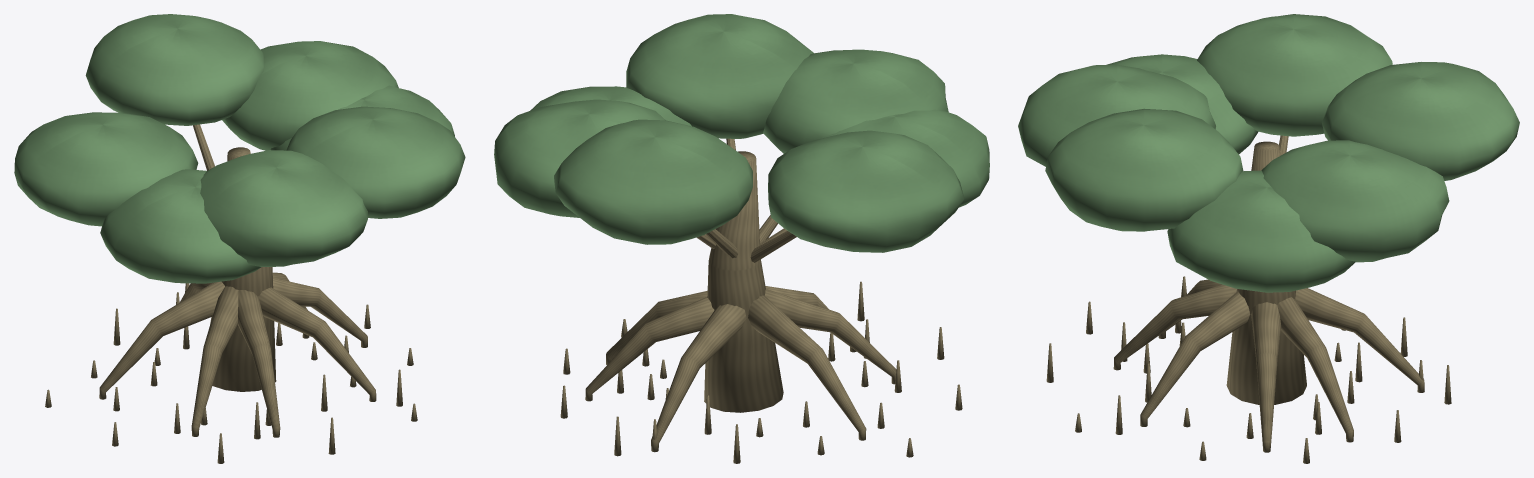
File: black_mangrove_with_breathing_roots_swamp_and_mangrove_22604.glb
3 renders of one model, left to right at view 1: azimuth 30°, elevation 25°; view 2: azimuth 150°, elevation 25°; view 3: azimuth 270°, elevation 25°, orthographic. The views are drawn at different scales.
Parts seen in each view (by area): view 1: black-mangrove; view 2: black-mangrove; view 3: black-mangrove.
Part boxes in pixels (x1,y1,x2,y2): black-mangrove: (14, 14, 465, 463); black-mangrove: (494, 14, 989, 463); black-mangrove: (1018, 14, 1519, 463).
Size of the model in its own units: 4.73 by 3.26 by 4.7.
2 materials, 2 textured.
